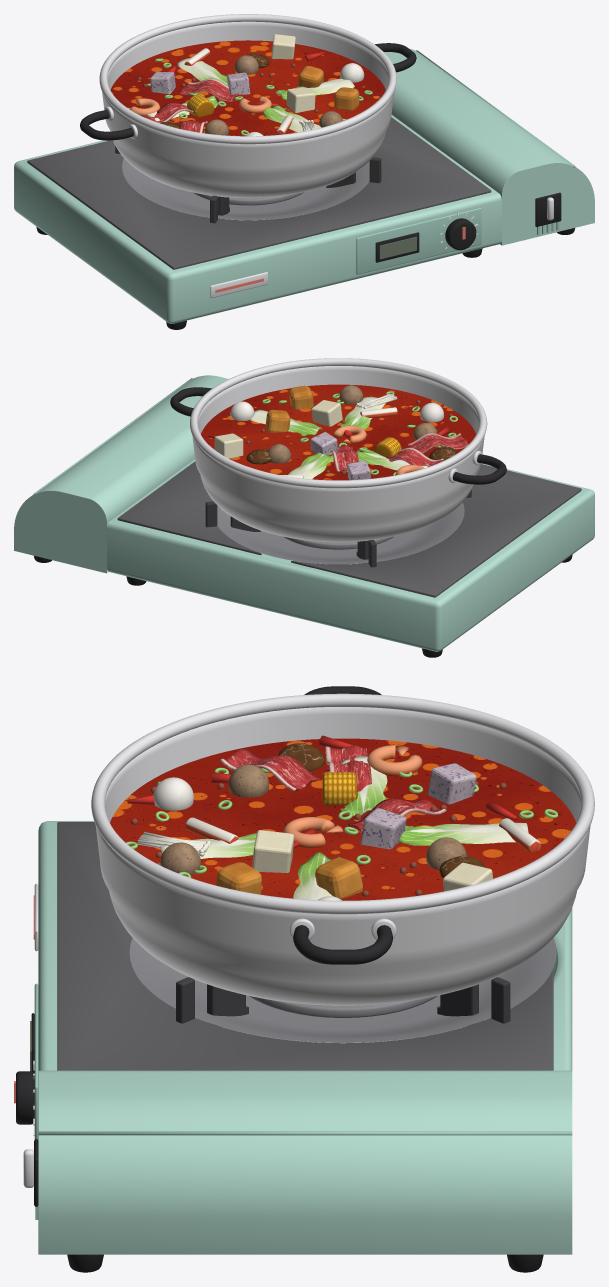
The model's file is hotpot.glb.
3 views of the same model, one above another, from view 1: azimuth 30°, elevation 25°; view 2: azimuth 150°, elevation 25°; view 3: azimuth 270°, elevation 25° (orthographic). The views are drawn at different scales.
Parts seen in each view (by area): view 1: StoveBody, StovePlate, Pot, CanisterHousing, Broth, Rim, BurnerBowl, ControlPanel, Handle, Knob, BeefSlice, Badge (+16 smaller); view 2: StoveBody, Pot, StovePlate, CanisterHousing, Broth, Rim, BurnerBowl, Handle, BeefSlice.002, Tofu.001, NapaCabbage.001, Tofu (+16 smaller); view 3: CanisterHousing, Pot, StovePlate, Broth, Rim, BurnerBowl, StoveBody, HousingSeam, NapaCabbage.001, Handle.001, Burner, BeefSlice.002 (+27 smaller).
Boxes of the visible parts, <box> form: StoveBody: <box>14,115,501,323</box>; StovePlate: <box>27,117,491,269</box>; Pot: <box>102,21,394,198</box>; CanisterHousing: <box>384,48,594,245</box>; Broth: <box>110,40,385,136</box>; Rim: <box>99,14,396,144</box>; BurnerBowl: <box>122,158,369,220</box>; ControlPanel: <box>356,207,481,274</box>; Handle: <box>80,110,133,140</box>; Knob: <box>445,218,476,250</box>; BeefSlice: <box>180,78,238,101</box>; Badge: <box>210,272,267,298</box>; StoveBody: <box>107,459,594,651</box>; Pot: <box>192,366,484,542</box>; StovePlate: <box>117,461,581,597</box>; CanisterHousing: <box>14,375,228,573</box>; Broth: <box>201,384,475,480</box>; Rim: <box>190,358,487,488</box>; BurnerBowl: <box>217,502,464,564</box>; Handle: <box>452,454,506,484</box>; BeefSlice.002: <box>408,433,468,453</box>; Tofu.001: <box>311,400,342,426</box>; NapaCabbage.001: <box>288,452,333,479</box>; Tofu: <box>214,433,243,458</box>; CanisterHousing: <box>38,1070,572,1254</box>; Pot: <box>95,707,590,1005</box>; StovePlate: <box>57,822,553,1070</box>; Broth: <box>110,738,575,900</box>; Rim: <box>91,693,594,914</box>; BurnerBowl: <box>129,938,556,1042</box>; StoveBody: <box>38,821,572,1070</box>; HousingSeam: <box>38,1131,572,1135</box>; NapaCabbage.001: <box>398,822,528,845</box>; Handle.001: <box>293,925,392,964</box>; Burner: <box>248,995,437,1017</box>; BeefSlice.002: <box>220,749,319,791</box>.
Size of the model in its own units: 2.65 by 0.949 by 1.85.
26 materials, 12 textured.
